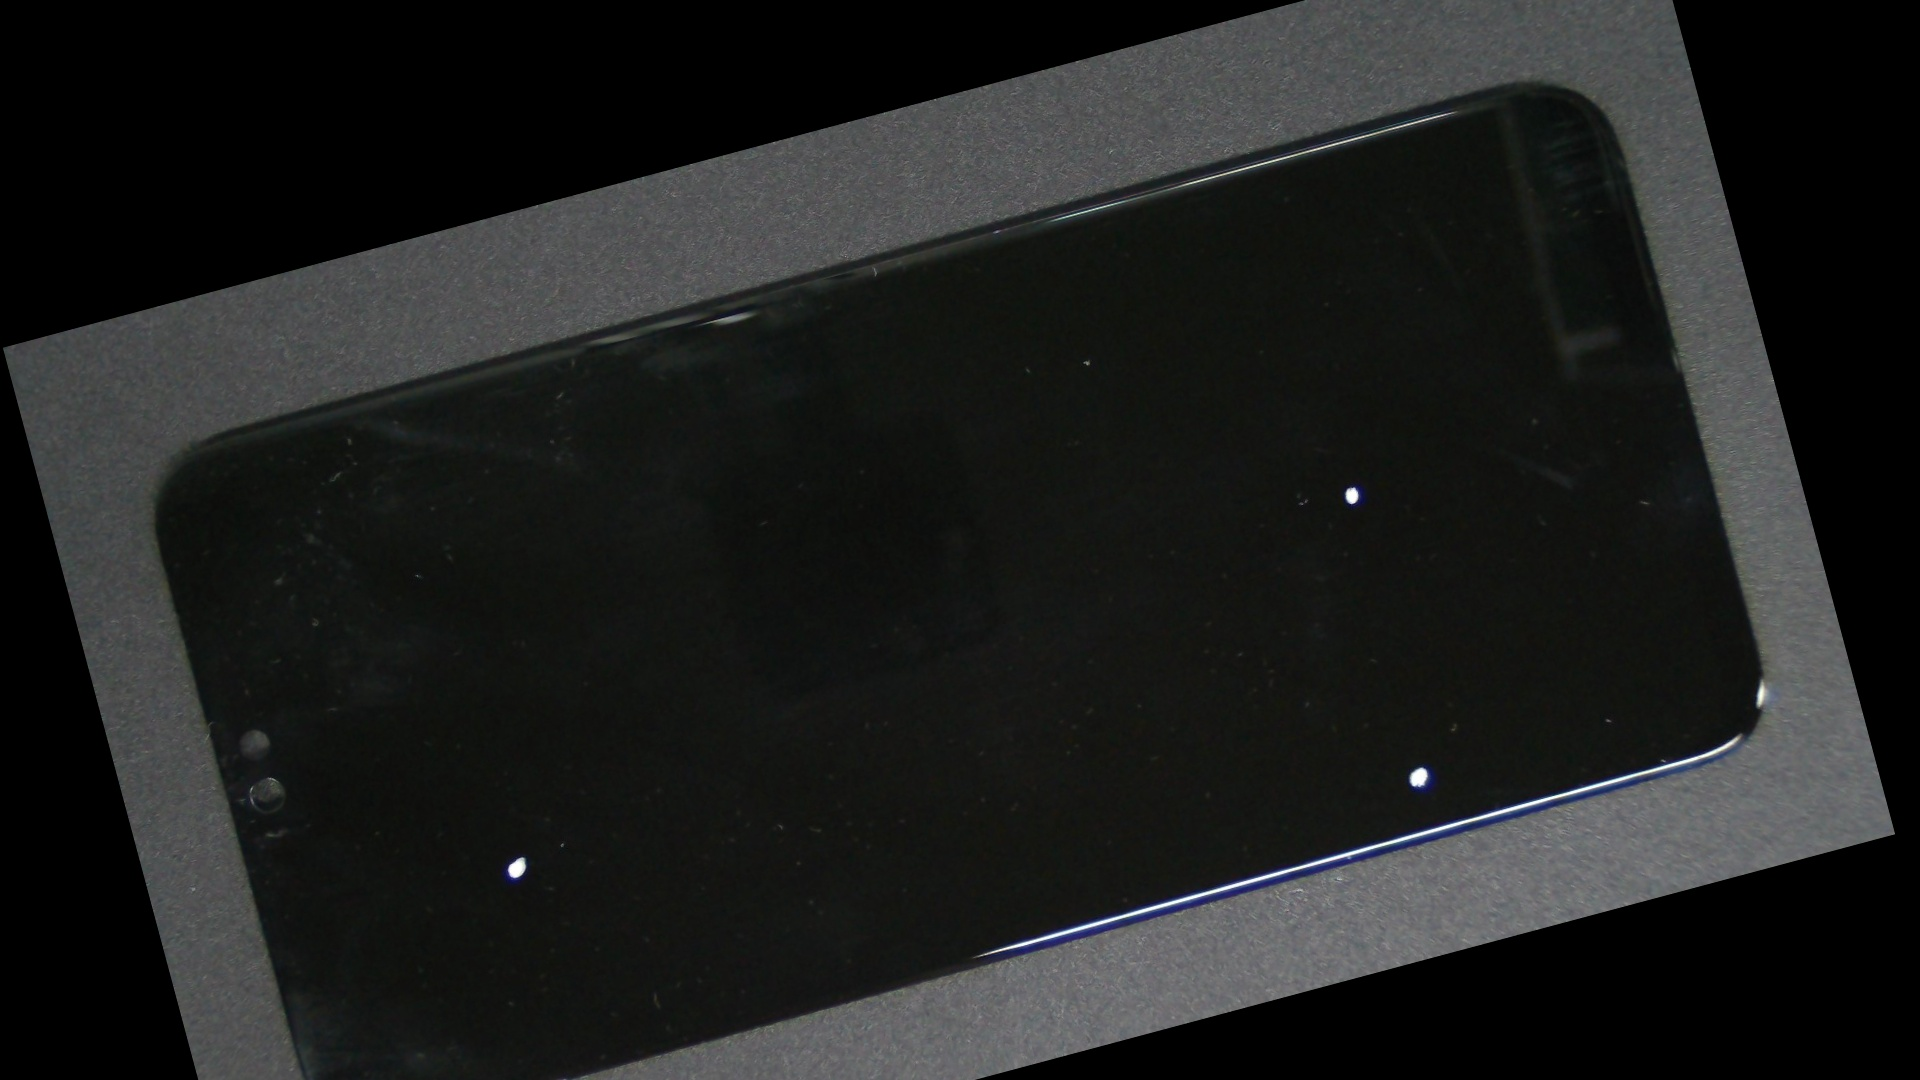oil: (711, 280, 1895, 1080), (676, 141, 1834, 882), (260, 509, 771, 1080)
